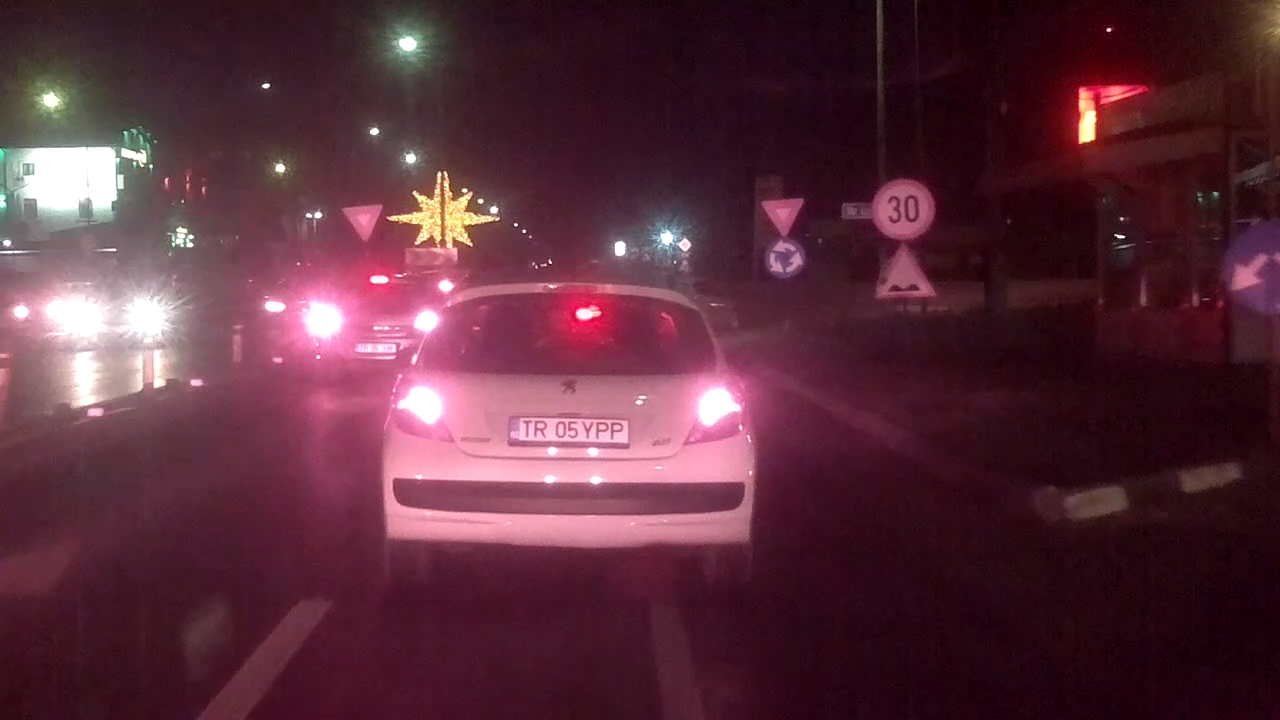license-plate: (505, 411, 635, 447)
